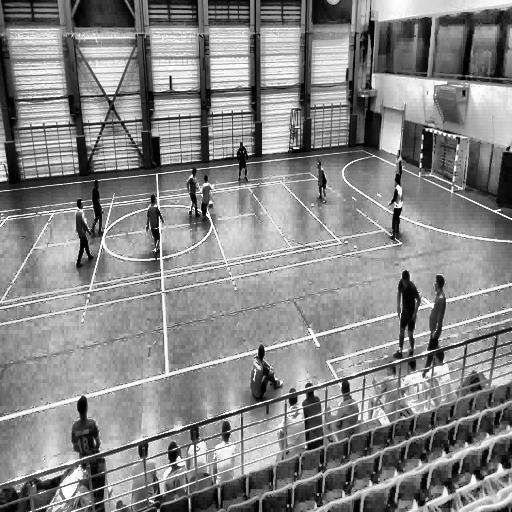ball: (208, 200, 214, 211)
player: (397, 270, 421, 357), (426, 274, 445, 354), (75, 198, 95, 268), (146, 193, 164, 259), (388, 178, 402, 242), (90, 180, 105, 239), (199, 172, 215, 226), (186, 166, 200, 220), (236, 140, 249, 183), (316, 160, 328, 204), (393, 146, 404, 191)
